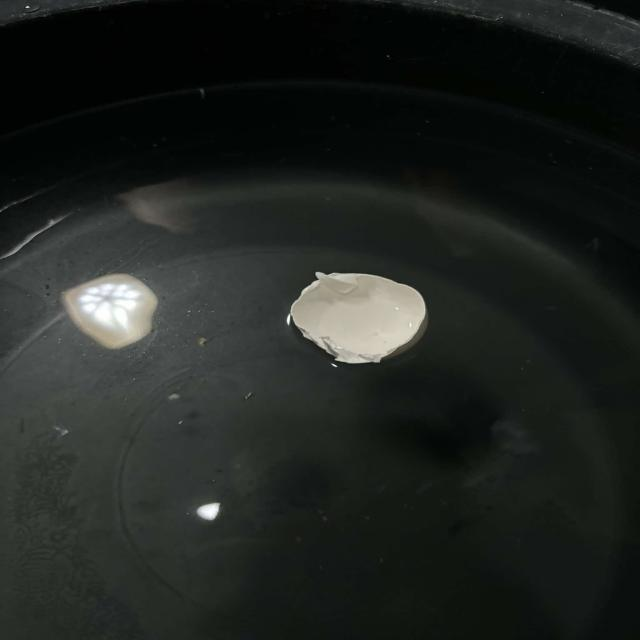Eggshell: (266, 249, 462, 399)
